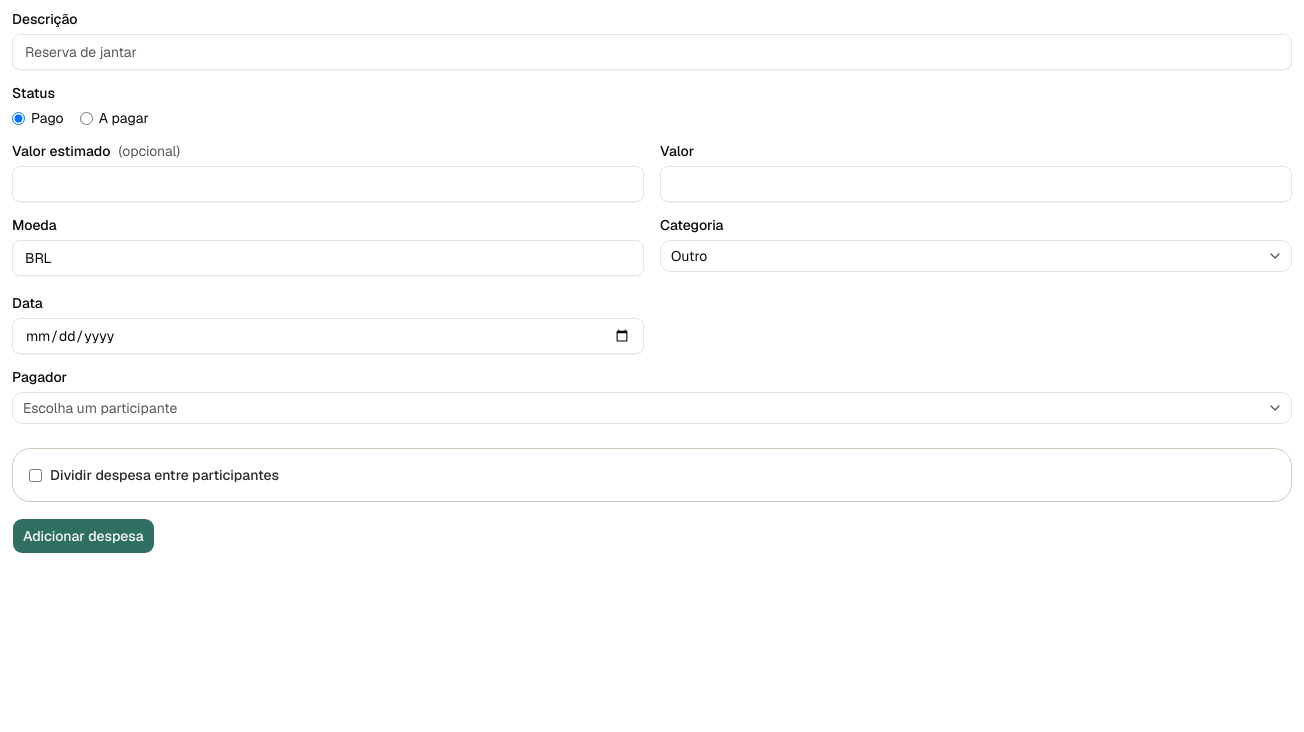
ExpenseForm › hides the split section and does not require amount/payer once marked to_pay (#171)
The width and height of the screenshot is (1304, 732).
Click the text "A pagar" at (114, 118), box [80, 108, 149, 128]
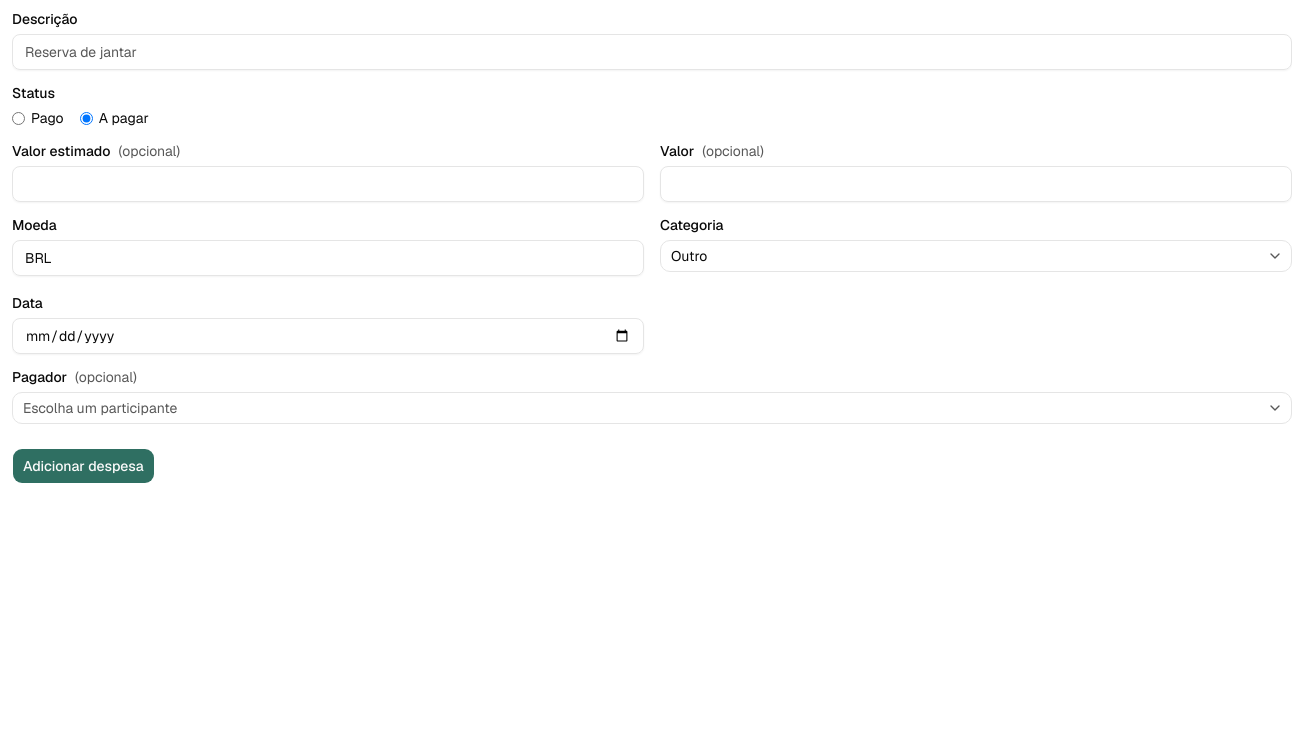
Check: the button "Adicionar despesa" is enabled, box [12, 448, 155, 484]
Check: the text "Dividir despesa entre participantes" is gone
